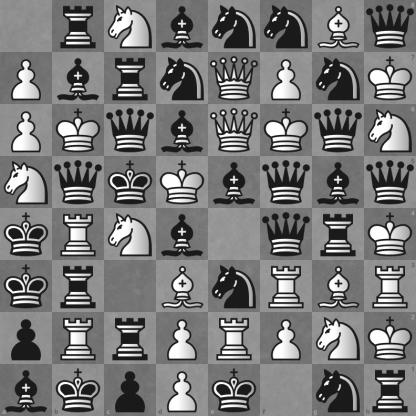B: (157, 261, 208, 312), (313, 1, 364, 52), (313, 261, 364, 312)
K: (364, 52, 416, 104), (364, 312, 416, 364), (364, 209, 416, 260), (53, 105, 104, 156), (157, 157, 208, 208), (261, 105, 312, 156)
N: (364, 104, 416, 156), (1, 157, 52, 208), (105, 1, 156, 52), (105, 209, 156, 260), (313, 313, 364, 364)
P: (156, 364, 209, 416), (1, 53, 52, 104), (1, 105, 52, 156), (157, 313, 208, 364), (261, 53, 312, 104), (261, 313, 312, 364)
Q: (209, 53, 260, 104), (209, 105, 260, 156)
R: (364, 260, 416, 312), (53, 209, 104, 260), (53, 313, 104, 364), (209, 313, 260, 364), (261, 261, 312, 312)
b: (0, 364, 52, 416), (53, 53, 104, 104), (157, 1, 208, 52), (157, 105, 208, 156), (157, 209, 208, 260), (209, 157, 260, 208), (313, 157, 364, 208)
board: (0, 0, 415, 415)
k: (52, 364, 104, 416), (209, 364, 260, 416), (1, 209, 52, 260), (1, 261, 52, 312), (105, 157, 156, 208)
n: (312, 364, 364, 416), (157, 53, 208, 104), (209, 1, 260, 52), (209, 261, 260, 312), (261, 1, 312, 52), (313, 53, 364, 104)
p: (104, 364, 156, 416), (1, 313, 52, 364)
q: (364, 156, 416, 209), (364, 0, 416, 52), (53, 157, 104, 208), (105, 105, 156, 156), (261, 157, 312, 208), (261, 209, 312, 260), (313, 105, 364, 156)
r: (364, 364, 416, 416), (53, 1, 104, 52), (53, 261, 104, 312), (105, 53, 156, 104), (105, 313, 156, 364), (313, 209, 364, 260)
